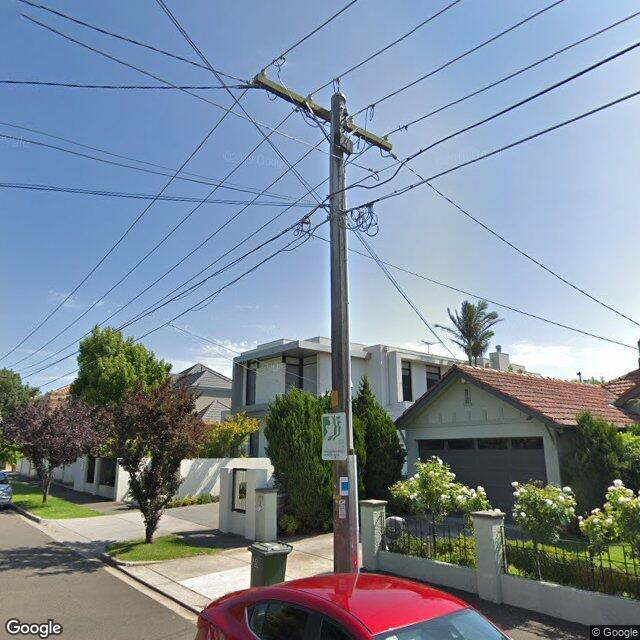crossarm: (254, 74, 392, 154)
timber-pole: (330, 93, 360, 569)
